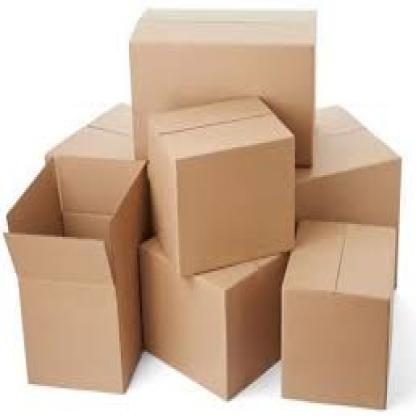Aluminum can: (6, 8, 415, 416)
